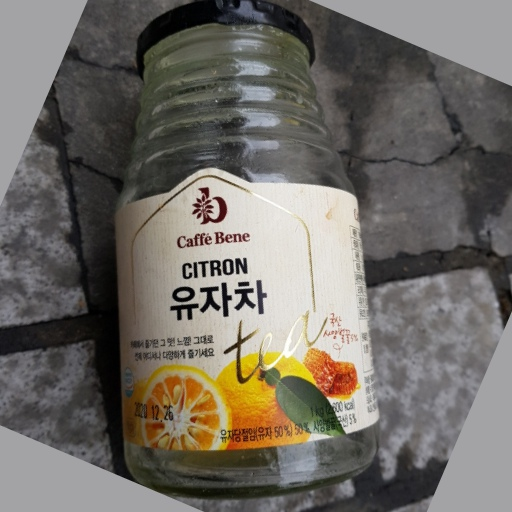Glass_5: (103, 3, 382, 489)
